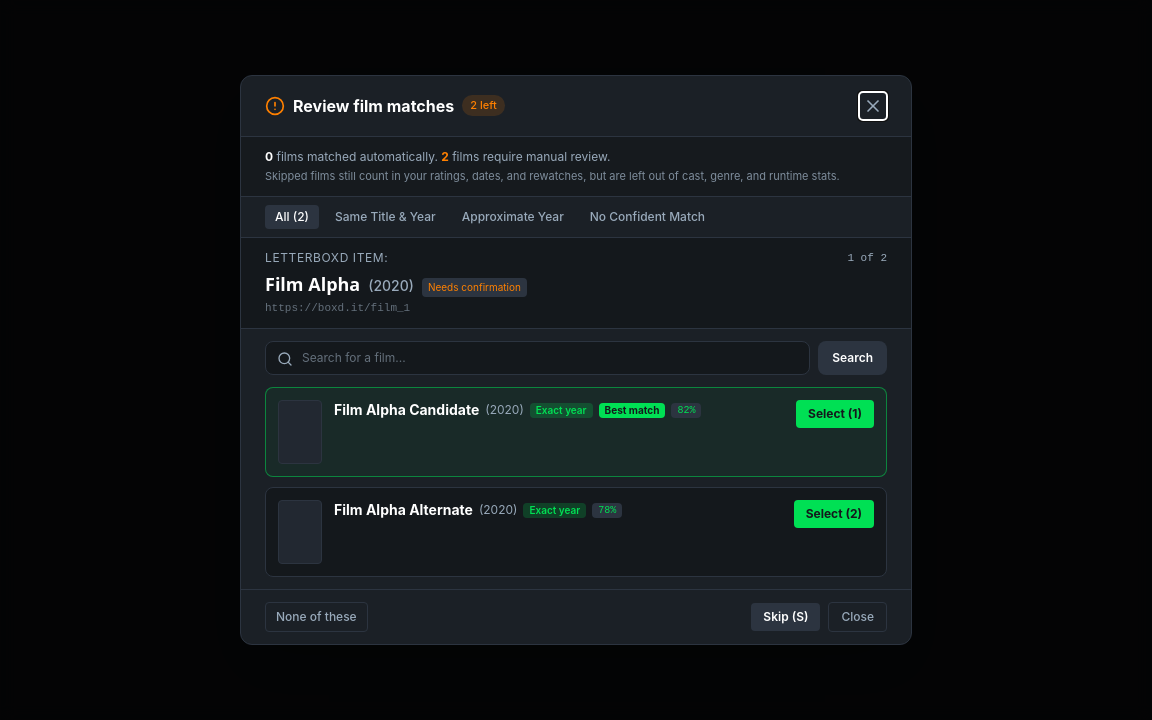
Phase 3: Review Matches Modal Queue & Performance Tests › 2. Undo restores both queue position and previous state
expect the text "Film Alpha" is shown: met, box x1=265 y1=270 x2=360 y2=298
// Select candidate on Film Alpha
Click the button "Select (1)" at coordinates (835, 414), box x1=796 y1=400 x2=874 y2=428
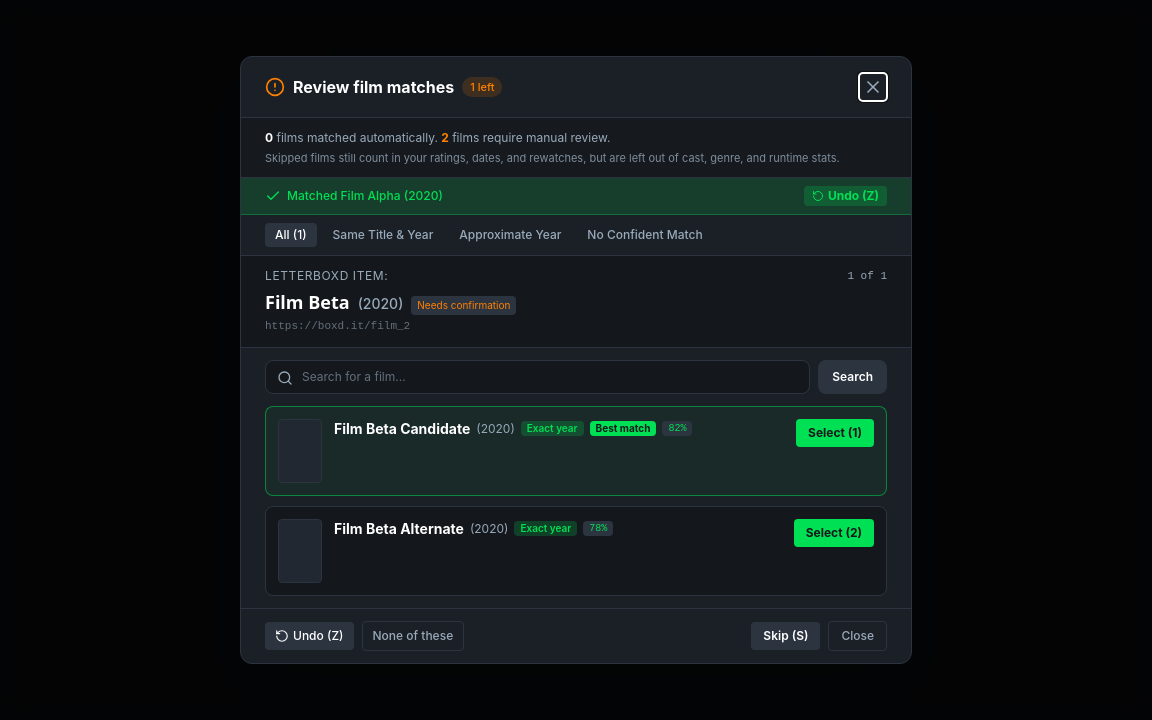
expect the text "Film Beta" is shown: met, box x1=265 y1=288 x2=350 y2=316
expect the button "Undo (Z)" in the row of "Matched Film Alpha (2020)" is shown: met
// Click Undo
Click the button "Undo (Z)" in the row of "Matched Film Alpha (2020)" at coordinates (846, 196), box x1=804 y1=186 x2=887 y2=206
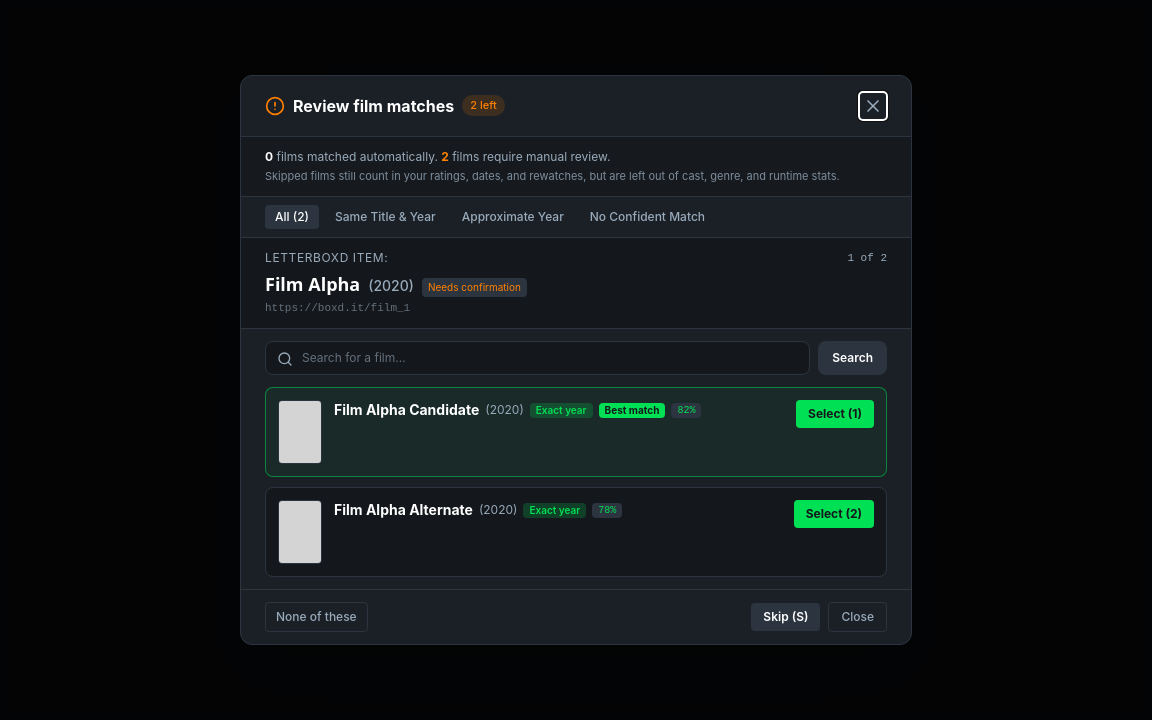
expect the text "Film Alpha" is shown: met, box x1=265 y1=270 x2=360 y2=298
